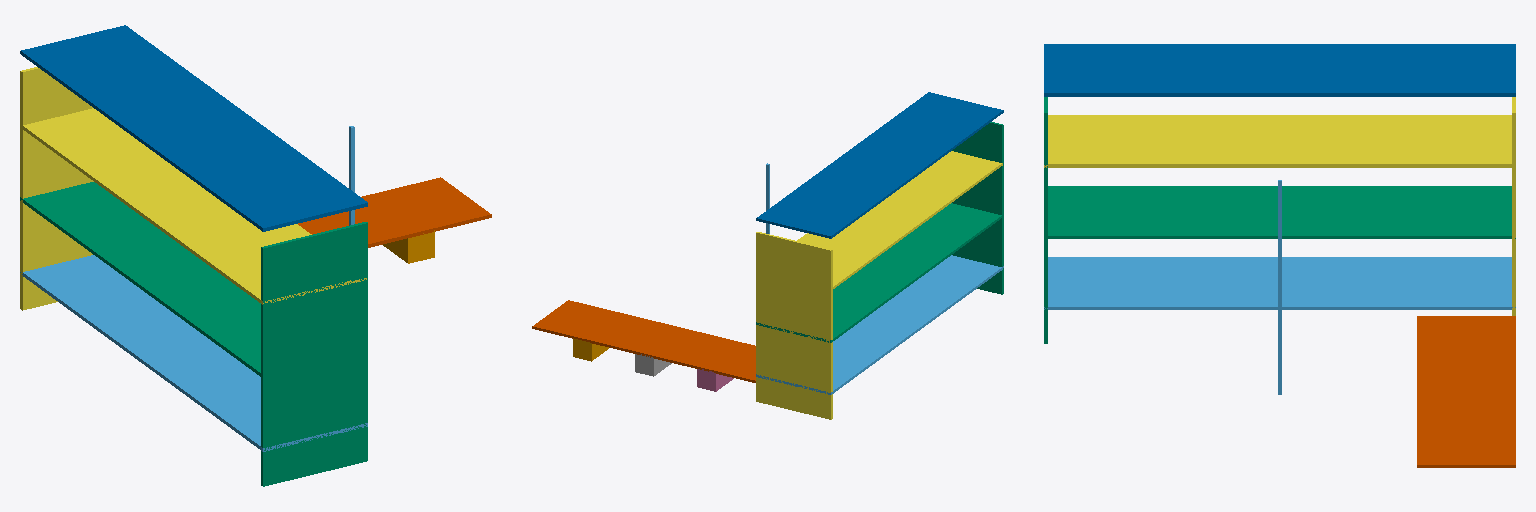
URDF robot description (warehouse_demonstration):
<robot name="warehouse_demonstration">
  <link name="world"/>
  <link name="bookshelf_bottom">
    <visual>
      <geometry>
        <box size="0.3 1.2 0.01"/>
      </geometry>
      <origin xyz="0.075 0.3 0.05" rpy="0 0 0"/>
    </visual>
    <collision>
    <origin xyz="0.075 0.3 0.05" rpy="0 0 0"/>
      <geometry>
        <box size="0.3 1.2 0.01"/>
      </geometry>
    </collision>
  </link>
  <joint name="bookshelf_bottom_joint" type="fixed">
    <parent link="world"/>
    <child link="bookshelf_bottom"/>
    <origin xyz="0.075 0.3 0.05" rpy="0 0 0"/>
  </joint>
  <link name="bookshelf_shelf1">
    <visual>
      <geometry>
        <box size="0.3 1.2 0.01"/>
      </geometry>
      <origin xyz="0.075 0.3 0.15" rpy="0 0 0"/>
    </visual>
    <collision>
    <origin xyz="0.075 0.3 0.15" rpy="0 0 0"/>
      <geometry>
        <box size="0.3 1.2 0.01"/>
      </geometry>
    </collision>
  </link>
  <joint name="bookshelf_shelf1_joint" type="fixed">
    <parent link="world"/>
    <child link="bookshelf_shelf1"/>
    <origin xyz="0.075 0.3 0.15" rpy="0 0 0"/>
  </joint>
  <link name="bookshelf_shelf2">
    <visual>
      <geometry>
        <box size="0.3 1.2 0.01"/>
      </geometry>
      <origin xyz="0.075 0.3 0.25" rpy="0 0 0"/>
    </visual>
    <collision>
    <origin xyz="0.075 0.3 0.25" rpy="0 0 0"/>
      <geometry>
        <box size="0.3 1.2 0.01"/>
      </geometry>
    </collision>
  </link>
  <joint name="bookshelf_shelf2_joint" type="fixed">
    <parent link="world"/>
    <child link="bookshelf_shelf2"/>
    <origin xyz="0.075 0.3 0.25" rpy="0 0 0"/>
  </joint>
  <link name="bookshelf_top">
    <visual>
      <geometry>
        <box size="0.3 1.2 0.01"/>
      </geometry>
      <origin xyz="0.075 0.3 0.35" rpy="0 0 0"/>
    </visual>
    <collision>
    <origin xyz="0.075 0.3 0.35" rpy="0 0 0"/>
      <geometry>
        <box size="0.3 1.2 0.01"/>
      </geometry>
    </collision>
  </link>
  <joint name="bookshelf_top_joint" type="fixed">
    <parent link="world"/>
    <child link="bookshelf_top"/>
    <origin xyz="0.075 0.3 0.35" rpy="0 0 0"/>
  </joint>
  <link name="palette_bottom">
    <visual>
      <geometry>
        <box size="0.9 0.25 0.01"/>
      </geometry>
      <origin xyz="0.375 0.5375 0.0375" rpy="0 0 0"/>
    </visual>
    <collision>
    <origin xyz="0.375 0.5375 0.0375" rpy="0 0 0"/>
      <geometry>
        <box size="0.9 0.25 0.01"/>
      </geometry>
    </collision>
  </link>
  <joint name="palette_bottom_joint" type="fixed">
    <parent link="world"/>
    <child link="palette_bottom"/>
    <origin xyz="0.375 0.5375 0.0375" rpy="0 0 0"/>
  </joint>
  <link name="palette_rail_1">
    <visual>
      <geometry>
        <box size="0.075 0.25 0.075"/>
      </geometry>
      <origin xyz="0.25 0.5375 0.01875" rpy="0 0 0"/>
    </visual>
    <collision>
    <origin xyz="0.25 0.5375 0.01875" rpy="0 0 0"/>
      <geometry>
        <box size="0.075 0.25 0.075"/>
      </geometry>
    </collision>
  </link>
  <joint name="palette_rail_1_joint" type="fixed">
    <parent link="world"/>
    <child link="palette_rail_1"/>
    <origin xyz="0.25 0.5375 0.01875" rpy="0 0 0"/>
  </joint>
  <link name="palette_rail_2">
    <visual>
      <geometry>
        <box size="0.075 0.25 0.075"/>
      </geometry>
      <origin xyz="0.375 0.5375 0.01875" rpy="0 0 0"/>
    </visual>
    <collision>
    <origin xyz="0.375 0.5375 0.01875" rpy="0 0 0"/>
      <geometry>
        <box size="0.075 0.25 0.075"/>
      </geometry>
    </collision>
  </link>
  <joint name="palette_rail_2_joint" type="fixed">
    <parent link="world"/>
    <child link="palette_rail_2"/>
    <origin xyz="0.375 0.5375 0.01875" rpy="0 0 0"/>
  </joint>
  <link name="palette_rail_3">
    <visual>
      <geometry>
        <box size="0.075 0.25 0.075"/>
      </geometry>
      <origin xyz="0.5 0.5375 0.01875" rpy="0 0 0"/>
    </visual>
    <collision>
    <origin xyz="0.5 0.5375 0.01875" rpy="0 0 0"/>
      <geometry>
        <box size="0.075 0.25 0.075"/>
      </geometry>
    </collision>
  </link>
  <joint name="palette_rail_3_joint" type="fixed">
    <parent link="world"/>
    <child link="palette_rail_3"/>
    <origin xyz="0.5 0.5375 0.01875" rpy="0 0 0"/>
  </joint>
  <link name="pole">
    <visual>
      <geometry>
        <box size="0.01 0.01 0.6"/>
      </geometry>
      <origin xyz="0.3 0.3 0.15" rpy="0 0 0"/>
    </visual>
    <collision>
    <origin xyz="0.3 0.3 0.15" rpy="0 0 0"/>
      <geometry>
        <box size="0.01 0.01 0.6"/>
      </geometry>
    </collision>
  </link>
  <joint name="pole_joint" type="fixed">
    <parent link="world"/>
    <child link="pole"/>
    <origin xyz="0.3 0.3 0.15" rpy="0 0 0"/>
  </joint>
  <link name="bookshelf_left_wall">
    <visual>
      <geometry>
        <box size="0.3 0.01 0.65"/>
      </geometry>
      <origin xyz="0.075 0.0025 0.1625" rpy="0 0 0"/>
    </visual>
    <collision>
    <origin xyz="0.075 0.0025 0.1625" rpy="0 0 0"/>
      <geometry>
        <box size="0.3 0.01 0.65"/>
      </geometry>
    </collision>
  </link>
  <joint name="bookshelf_left_wall_joint" type="fixed">
    <parent link="world"/>
    <child link="bookshelf_left_wall"/>
    <origin xyz="0.075 0.0025 0.1625" rpy="0 0 0"/>
  </joint>
  <link name="bookshelf_right_wall">
    <visual>
      <geometry>
        <box size="0.3 0.01 0.65"/>
      </geometry>
      <origin xyz="0.075 0.5975 0.1625" rpy="0 0 0"/>
    </visual>
    <collision>
    <origin xyz="0.075 0.5975 0.1625" rpy="0 0 0"/>
      <geometry>
        <box size="0.3 0.01 0.65"/>
      </geometry>
    </collision>
  </link>
  <joint name="bookshelf_right_wall_joint" type="fixed">
    <parent link="world"/>
    <child link="bookshelf_right_wall"/>
    <origin xyz="0.075 0.5975 0.1625" rpy="0 0 0"/>
  </joint>
</robot>

--- Facts derived from the render (not from the file) ---
Views: 3 orthographic renders of the robot side by side, from view 1: azimuth 30°, elevation 25°; view 2: azimuth 150°, elevation 25°; view 3: azimuth 270°, elevation 25°.
Robot: warehouse_demonstration — 12 links, 11 joints (11 fixed); root link world; default pose: every joint at zero.
Links seen in each view (by area): view 1: bookshelf_top, bookshelf_left_wall, bookshelf_shelf2, bookshelf_shelf1, bookshelf_bottom, bookshelf_right_wall, palette_bottom, palette_rail_3; view 2: bookshelf_top, bookshelf_right_wall, bookshelf_shelf2, palette_bottom, bookshelf_bottom, bookshelf_shelf1, bookshelf_left_wall, palette_rail_1; view 3: bookshelf_top, bookshelf_shelf2, bookshelf_bottom, bookshelf_shelf1, palette_bottom, bookshelf_left_wall, bookshelf_right_wall, pole.
Link boxes in pixels (<box>): bookshelf_top: <box>20,25,367,231</box>; bookshelf_left_wall: <box>261,222,367,486</box>; bookshelf_shelf2: <box>20,108,366,304</box>; bookshelf_shelf1: <box>20,182,367,378</box>; bookshelf_bottom: <box>20,255,367,451</box>; bookshelf_right_wall: <box>20,67,93,310</box>; palette_bottom: <box>298,177,491,247</box>; palette_rail_3: <box>383,230,434,263</box>; bookshelf_top: <box>756,92,1003,238</box>; bookshelf_right_wall: <box>756,232,832,419</box>; bookshelf_shelf2: <box>756,151,1002,290</box>; palette_bottom: <box>532,300,755,382</box>; bookshelf_bottom: <box>756,255,1003,394</box>; bookshelf_shelf1: <box>756,203,1003,342</box>; bookshelf_left_wall: <box>952,122,1003,294</box>; palette_rail_1: <box>697,369,733,391</box>; bookshelf_top: <box>1044,44,1515,96</box>; bookshelf_shelf2: <box>1044,115,1515,167</box>; bookshelf_bottom: <box>1044,257,1515,309</box>; bookshelf_shelf1: <box>1044,186,1515,238</box>; palette_bottom: <box>1417,316,1515,467</box>; bookshelf_left_wall: <box>1044,97,1047,343</box>; bookshelf_right_wall: <box>1512,97,1515,315</box>; pole: <box>1278,180,1281,394</box>.
Bounding box of the posed robot: 1.2 × 1.2 × 0.705 m (x, y, z).
Geometry: primitives only (box / cylinder / sphere), no mesh files.